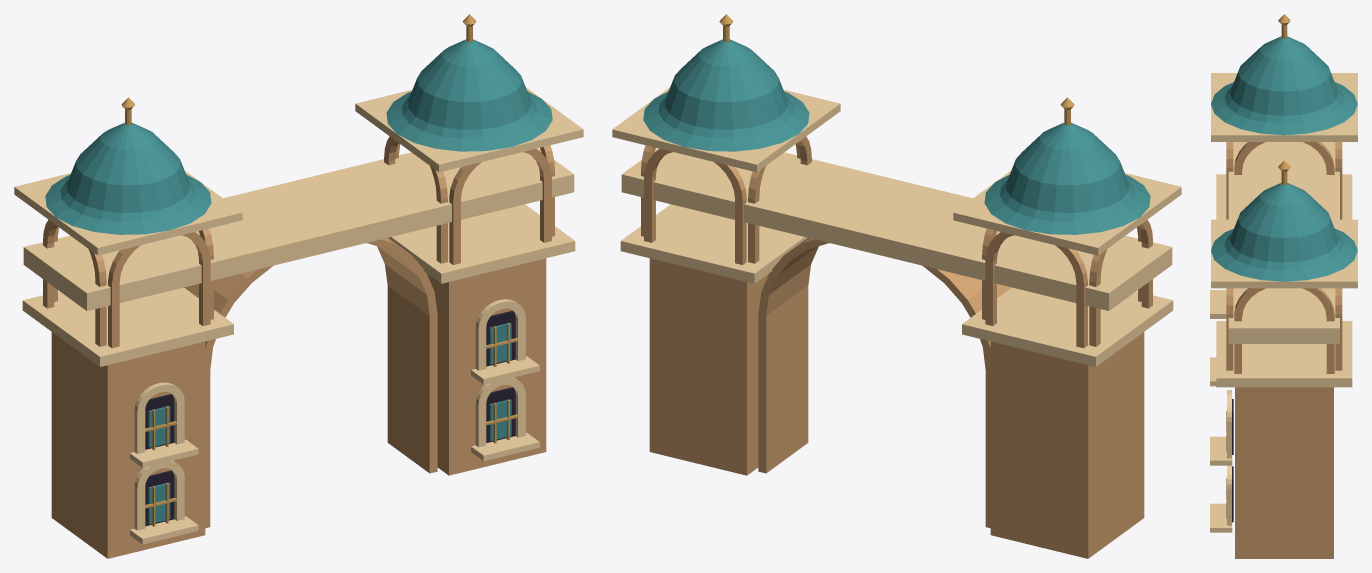
File: caravan_gate.glb
3 views of the same model, side by side, from view 1: azimuth 30°, elevation 25°; view 2: azimuth 150°, elevation 25°; view 3: azimuth 270°, elevation 25° (orthographic). The views are drawn at different scales.
Parts seen in each view (by area): view 1: caravan_gate Carved warm limestone, caravan_gate Honey sandstone, caravan_gate Oxidised turquoise copper, caravan_gate Deep recessed arch, caravan_gate Brass finials; view 2: caravan_gate Honey sandstone, caravan_gate Carved warm limestone, caravan_gate Oxidised turquoise copper; view 3: caravan_gate Carved warm limestone, caravan_gate Honey sandstone, caravan_gate Oxidised turquoise copper, caravan_gate Brass finials, caravan_gate Deep recessed arch.
Part boxes in pixels (box(x1,y1,x2,y2)): caravan_gate Carved warm limestone: box(14, 87, 583, 544); caravan_gate Honey sandstone: box(43, 136, 554, 558); caravan_gate Oxidised turquoise copper: box(45, 39, 552, 524); caravan_gate Deep recessed arch: box(145, 310, 515, 526); caravan_gate Brass finials: box(121, 14, 518, 526); caravan_gate Honey sandstone: box(641, 136, 1152, 558); caravan_gate Carved warm limestone: box(612, 87, 1181, 366); caravan_gate Oxidised turquoise copper: box(643, 39, 1150, 234); caravan_gate Carved warm limestone: box(1210, 73, 1357, 532); caravan_gate Honey sandstone: box(1226, 142, 1342, 558); caravan_gate Oxidised turquoise copper: box(1211, 36, 1357, 281); caravan_gate Brass finials: box(1226, 14, 1290, 518); caravan_gate Deep recessed arch: box(1232, 399, 1233, 522).
Bounding box in the file's own units: 20 × 16.83 × 5.97.
